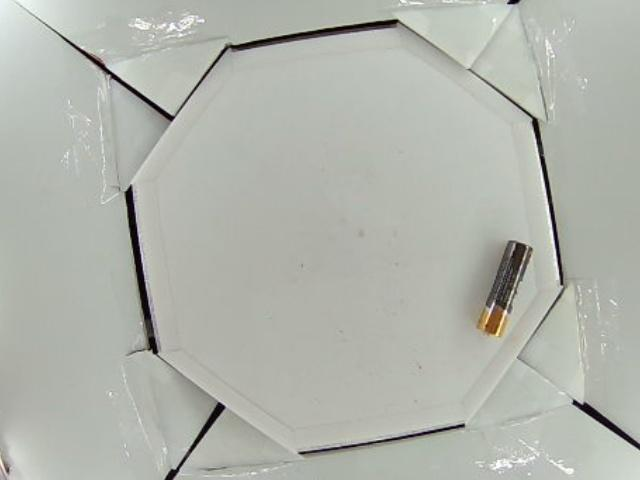Battery: (475, 241, 538, 340)
